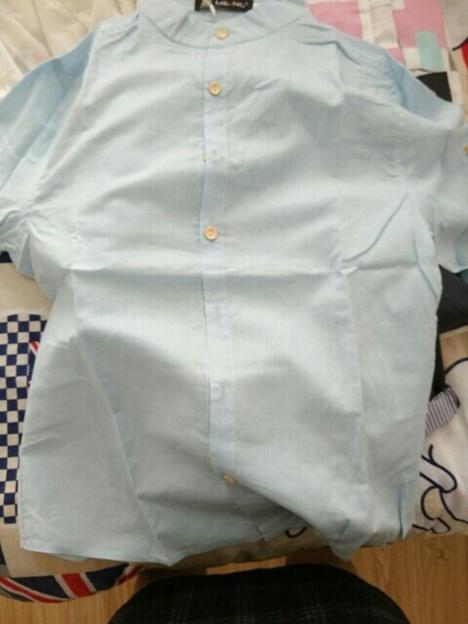C_shirt: (1, 1, 468, 565)
